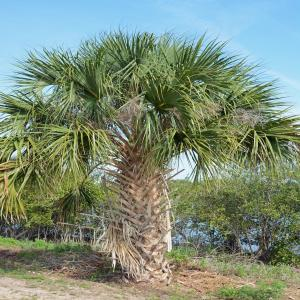palm tree: (0, 16, 300, 284)
